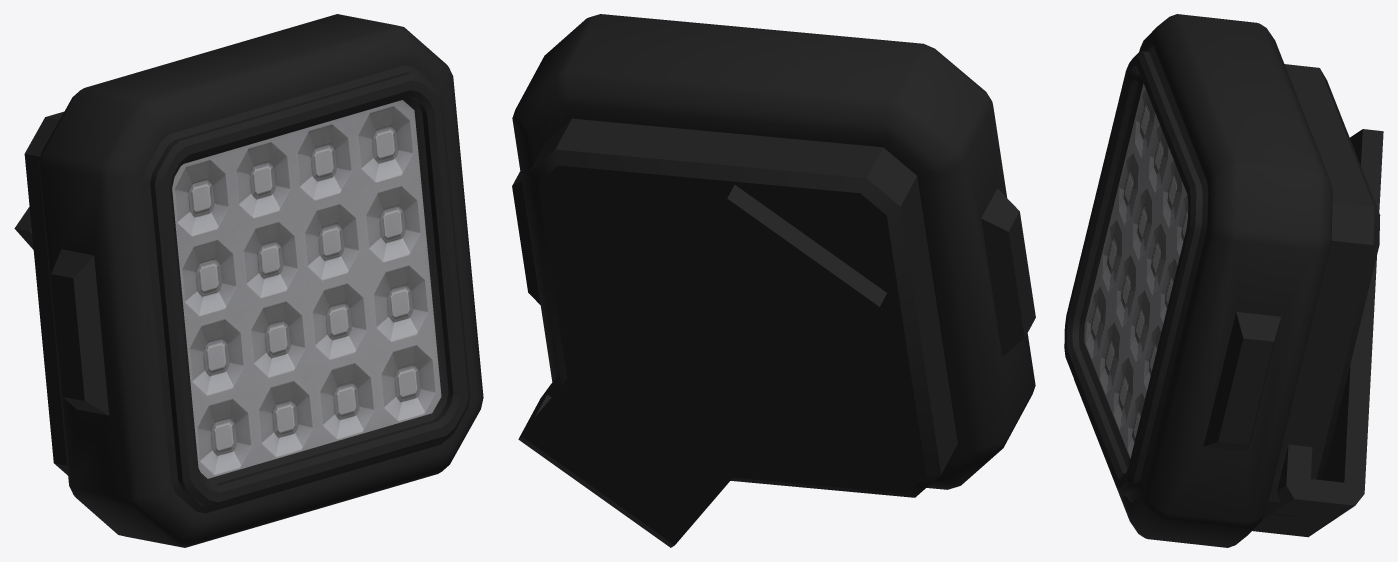
The model's file is Light.fbx.
The picture shows the model from 3 angles, left to right: view 1: azimuth 30°, elevation 25°; view 2: azimuth 150°, elevation 25°; view 3: azimuth 270°, elevation 25°; orthographic projection. The views are drawn at different scales.
Parts seen in each view (by area): view 1: Light; view 2: Light; view 3: Light.
Boxes of the visible parts, x1,y1,x2,y2 form: Light: (14, 14, 483, 547); Light: (512, 14, 1035, 547); Light: (1064, 14, 1383, 547).
Bounding box in the file's own units: 5.72 × 5.92 × 3.86.
2 materials, 1 textured.
